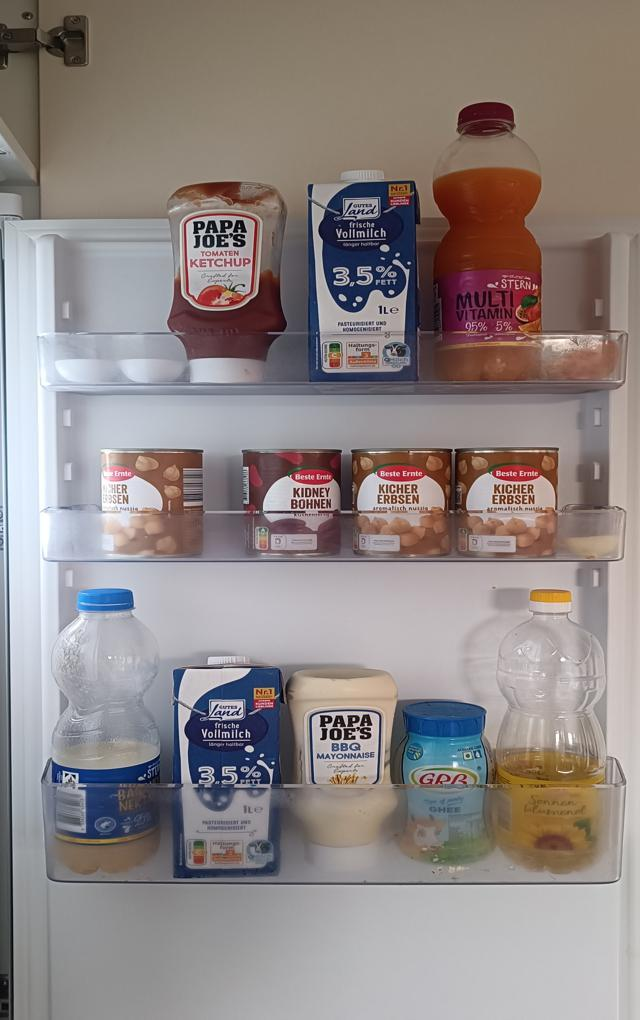bananajuice: (50, 585, 163, 878)
chickpeas: (99, 448, 204, 562), (352, 449, 453, 563), (458, 449, 558, 563)
ghee: (397, 700, 496, 870)
kidneybeans: (243, 451, 343, 561)
mayoniasie: (287, 669, 399, 875)
milk: (171, 652, 285, 882), (305, 171, 422, 391)
oil: (500, 586, 609, 873)
orangejuice: (433, 102, 545, 388)
tomatoketchup: (167, 179, 286, 383)
